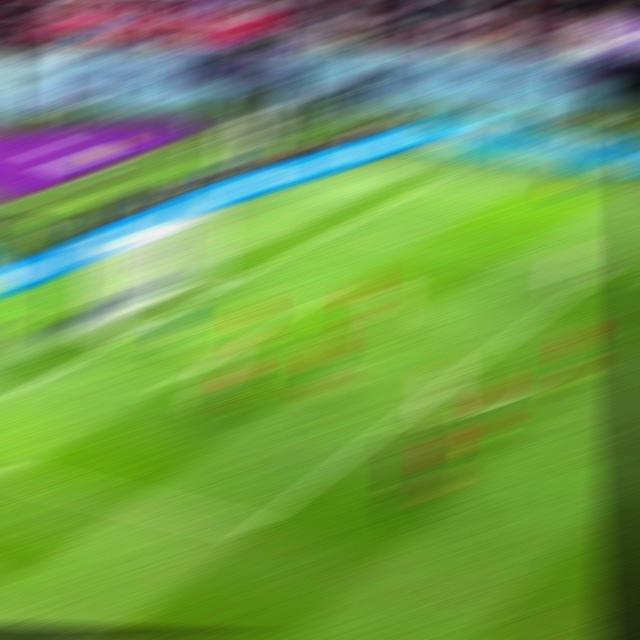bigarea_bottom_inner: (231, 514, 275, 544)
bigarea_top_inner: (588, 260, 625, 274)
bigarea_top_outter: (328, 218, 363, 235)
bottom_arc_area_intersection: (378, 414, 415, 431)
corner: (422, 176, 457, 182)
smallarea_bottom_inner: (142, 380, 181, 400)
smallarea_bottom_outter: (46, 361, 78, 378)
smallarea_top_inner: (323, 276, 359, 298)
smallarea_top_outter: (238, 264, 273, 282)
top_arc_area_intersection: (503, 325, 538, 337)
